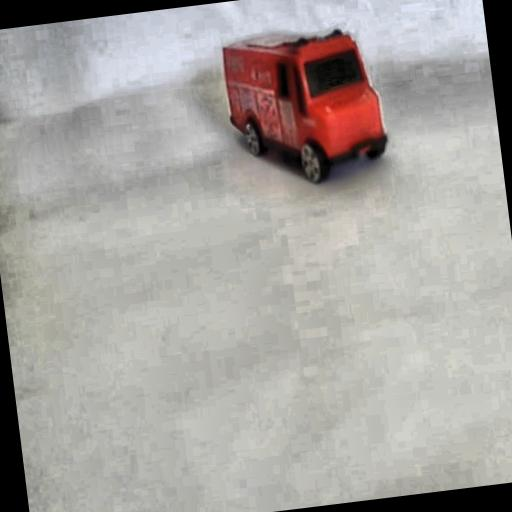fire_truck: (216, 16, 393, 194)
